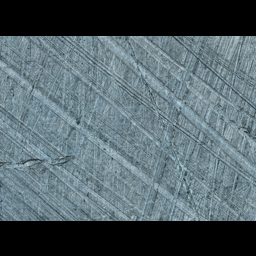d: (0, 150, 77, 176)
